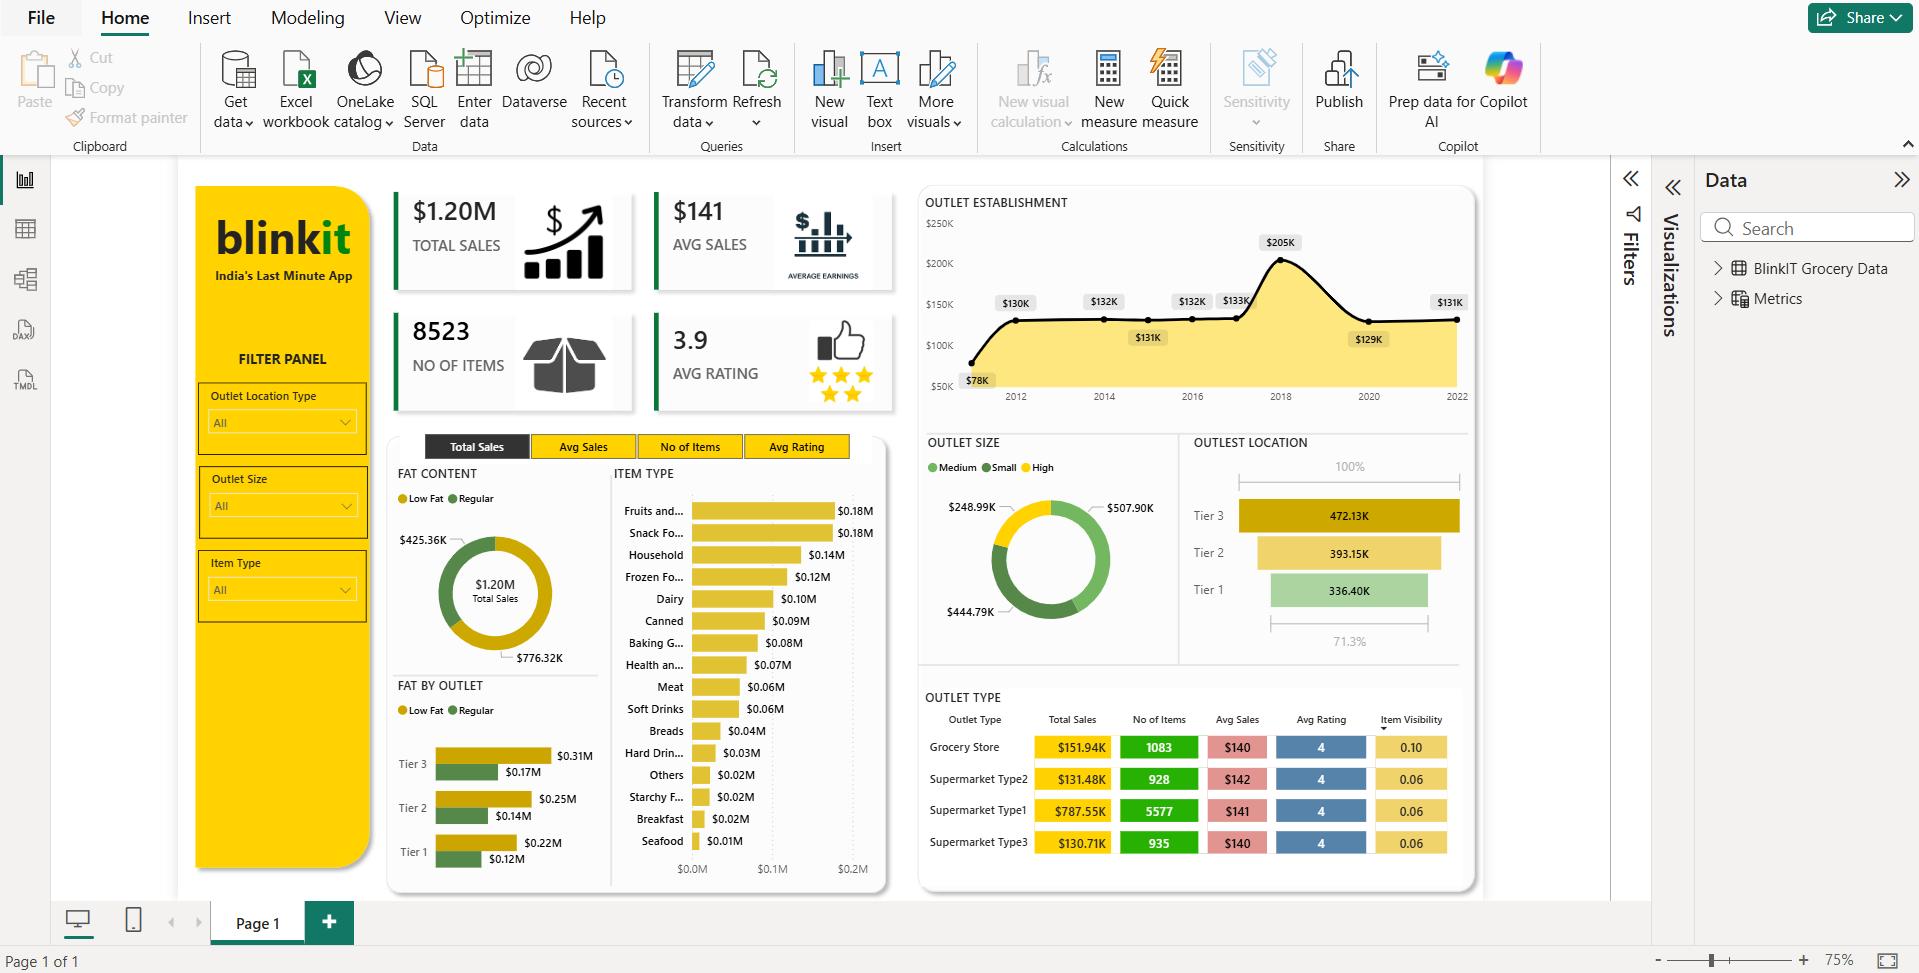

This screenshot's page, from the dashboard's own definition file:
{"tool":"powerbi","page":{"name":"Page 1","canvas":[1400,800],"ordinal":0},"visuals":[{"type":"shape","box":[9.4,24.1,205.1,749.3],"z":0},{"type":"textbox","box":[34.9,49.6,155.5,88.5],"z":1000},{"type":"textbox","box":[34.9,115.3,164.9,88.5],"z":2000},{"type":"cardVisual","fields":{"Data":["BlinkIT Grocery Data.Total Sales","BlinkIT Grocery Data.Avg Sales","BlinkIT Grocery Data.No of Items","BlinkIT Grocery Data.Avg Rating"]},"box":[214.5,22.8,569.7,269.4],"z":3000},{"type":"shape","box":[214.5,292.2,553.6,508],"z":4000},{"type":"donutChart","title":"FAT CONTENT","fields":{"Y":["BlinkIT Grocery Data.Total Sales"],"Category":["BlinkIT Grocery Data.Item Fat Content"]},"box":[230.6,332.4,219.8,230.6],"z":5000},{"type":"slicer","fields":{"Values":["Metrics.Metrics"]},"box":[238.6,292.2,505.4,40.2],"z":6000},{"type":"cardVisual","fields":{"Data":["BlinkIT Grocery Data.Total Sales"]},"box":[282.8,426.3,115.3,80.4],"z":7000},{"type":"clusteredBarChart","title":"FAT BY OUTLET","fields":{"Y":["BlinkIT Grocery Data.Total Sales"],"Category":["BlinkIT Grocery Data.Outlet Location Type"],"Series":["BlinkIT Grocery Data.Item Fat Content"]},"box":[230.6,559,219.8,230.6],"z":8000},{"type":"shape","box":[230.6,546.9,219.8,22.8],"z":9000},{"type":"shape","box":[383.4,343.2,162.2,441],"z":10000},{"type":"barChart","title":"ITEM TYPE","fields":{"Y":["BlinkIT Grocery Data.Total Sales"],"Category":["BlinkIT Grocery Data.Item Type"]},"box":[462.5,332.4,305.6,451.7],"z":11000},{"type":"shape","box":[784.2,22.8,615.3,776.1],"z":12000},{"type":"lineChart","title":"OUTLET ESTABLISHMENT","fields":{"Y":["BlinkIT Grocery Data.Total Sales"],"Category":["BlinkIT Grocery Data.Outlet Establishment Year"]},"box":[796.3,41.6,592.5,234.6],"z":13000},{"type":"shape","box":[803,276.1,580.4,45.6],"z":14000},{"type":"donutChart","title":"OUTLET SIZE","fields":{"Y":["BlinkIT Grocery Data.Total Sales"],"Category":["BlinkIT Grocery Data.Outlet Size"]},"box":[798.9,298.9,274.8,225.2],"z":15000},{"type":"shape","box":[1061.7,298.9,22.8,248],"z":16000},{"type":"funnel","title":"OUTLEST LOCATION","fields":{"Y":["Sum(BlinkIT Grocery Data.Sales)"],"Category":["BlinkIT Grocery Data.Outlet Location Type"]},"box":[1084.5,298.9,300.3,238.6],"z":17000},{"type":"shape","box":[793.6,524.1,580.4,45.6],"z":18000},{"type":"pivotTable","title":"OUTLET TYPE","fields":{"Rows":["BlinkIT Grocery Data.Outlet Type"],"Values":["BlinkIT Grocery Data.Total Sales","BlinkIT Grocery Data.No of Items","BlinkIT Grocery Data.Avg Sales","BlinkIT Grocery Data.Avg Rating","Avg(BlinkIT Grocery Data.Item Visibility)"]},"box":[796.3,572.4,581.8,211.8],"z":19000},{"type":"slicer","fields":{"Values":["BlinkIT Grocery Data.Outlet Location Type"]},"box":[21.4,244,181,77.7],"z":20000},{"type":"slicer","fields":{"Values":["BlinkIT Grocery Data.Outlet Size"]},"box":[22.8,333.8,181,77.7],"z":21000},{"type":"slicer","fields":{"Values":["BlinkIT Grocery Data.Item Type"]},"box":[21.4,423.6,181,77.7],"z":22000},{"type":"textbox","box":[21.4,203.8,182.3,40.2],"z":23000}]}

Visuals, with their boxes on the page's 1400x800 design canvas (x1, y1, x2, y2). These are canvas units, not pixel positions in the 1919x973 screenshot, which may show the page scaled, cropped or inside an application window:
shape: 9 24 214 773
textbox: 35 50 190 138
textbox: 35 115 200 204
cardVisual - BlinkIT Grocery Data.Total Sales x BlinkIT Grocery Data.Avg Sales: 214 23 784 292
shape: 214 292 768 800
"FAT CONTENT" donutChart: 231 332 450 563
slicer - Metrics.Metrics: 239 292 744 332
cardVisual - BlinkIT Grocery Data.Total Sales: 283 426 398 507
"FAT BY OUTLET" clusteredBarChart: 231 559 450 790
shape: 231 547 450 570
shape: 383 343 546 784
"ITEM TYPE" barChart: 462 332 768 784
shape: 784 23 1400 799
"OUTLET ESTABLISHMENT" lineChart: 796 42 1389 276
shape: 803 276 1383 322
"OUTLET SIZE" donutChart: 799 299 1074 524
shape: 1062 299 1084 547
"OUTLEST LOCATION" funnel: 1084 299 1385 538
shape: 794 524 1374 570
"OUTLET TYPE" pivotTable: 796 572 1378 784
slicer - BlinkIT Grocery Data.Outlet Location Type: 21 244 202 322
slicer - BlinkIT Grocery Data.Outlet Size: 23 334 204 412
slicer - BlinkIT Grocery Data.Item Type: 21 424 202 501
textbox: 21 204 204 244
